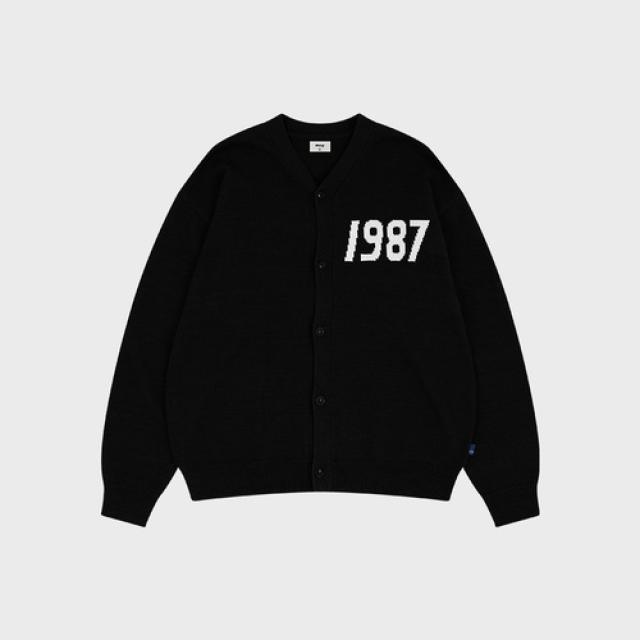dress: (105, 108, 544, 527)
